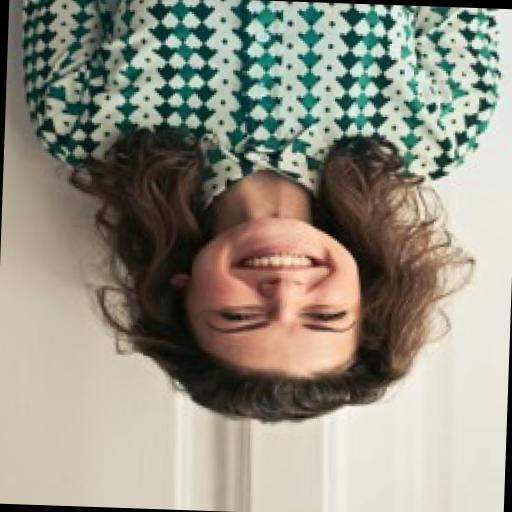human: (0, 0, 505, 445)
